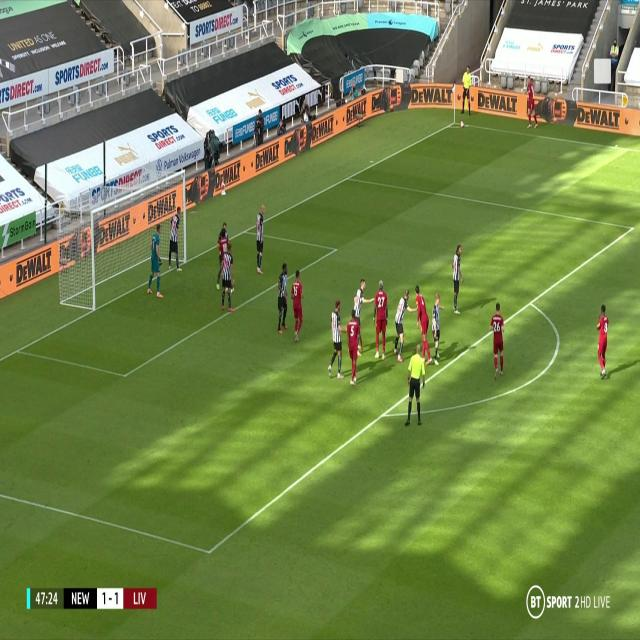ball: (460, 120, 464, 128)
player: (404, 344, 426, 430), (371, 279, 391, 362), (326, 297, 345, 380), (391, 284, 411, 362), (216, 242, 237, 316), (412, 284, 432, 361), (345, 303, 363, 387), (594, 302, 612, 383), (488, 300, 506, 380), (166, 203, 185, 274), (289, 268, 306, 344), (449, 241, 466, 316), (146, 228, 164, 298), (274, 260, 291, 331), (429, 289, 445, 364), (353, 280, 369, 350), (253, 201, 268, 274), (214, 225, 228, 282), (460, 63, 472, 118), (525, 78, 538, 128)
